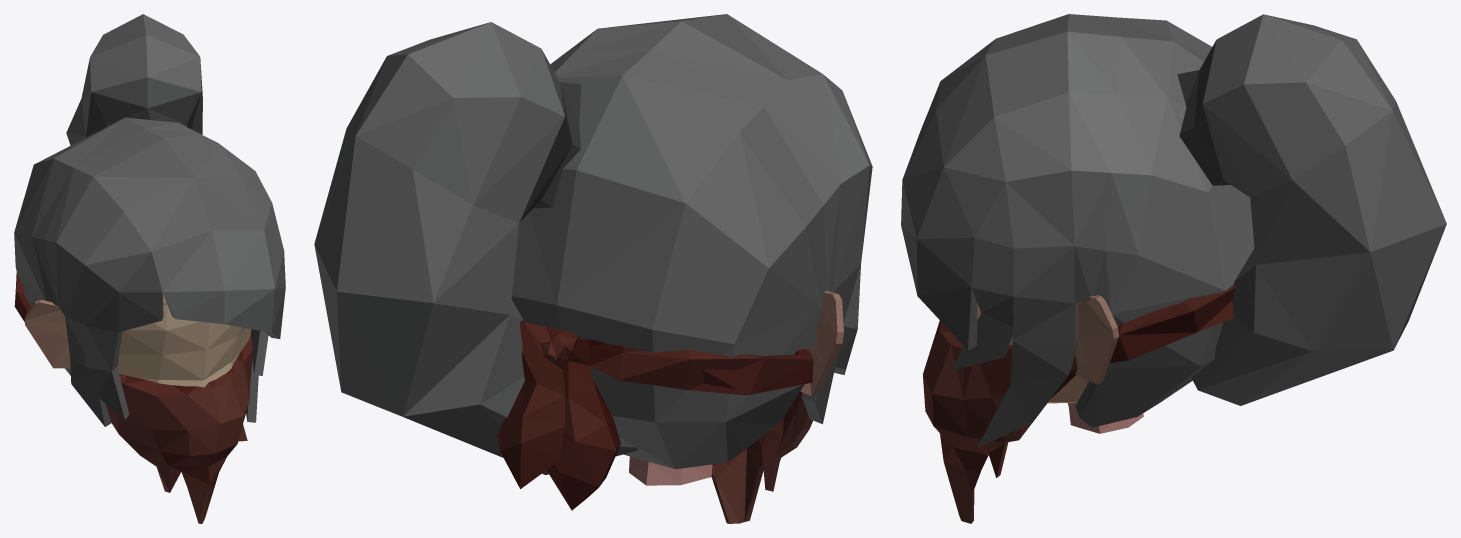
File: helm_lightskin_ponytail_gray_bandana.fbx
The picture shows the model from 3 angles, left to right: view 1: azimuth 30°, elevation 25°; view 2: azimuth 150°, elevation 25°; view 3: azimuth 270°, elevation 25°; orthographic projection. The views are drawn at different scales.
Parts seen in each view (by area): view 1: helm_lightskin_ponytail_gray_bandana; view 2: helm_lightskin_ponytail_gray_bandana; view 3: helm_lightskin_ponytail_gray_bandana.
Part boxes in pixels (x1,y1,x2,y2): helm_lightskin_ponytail_gray_bandana: (14, 14, 285, 523); helm_lightskin_ponytail_gray_bandana: (314, 14, 872, 523); helm_lightskin_ponytail_gray_bandana: (901, 14, 1446, 523).
Bounding box in the file's own units: 1.21 × 1.8 × 1.64.
